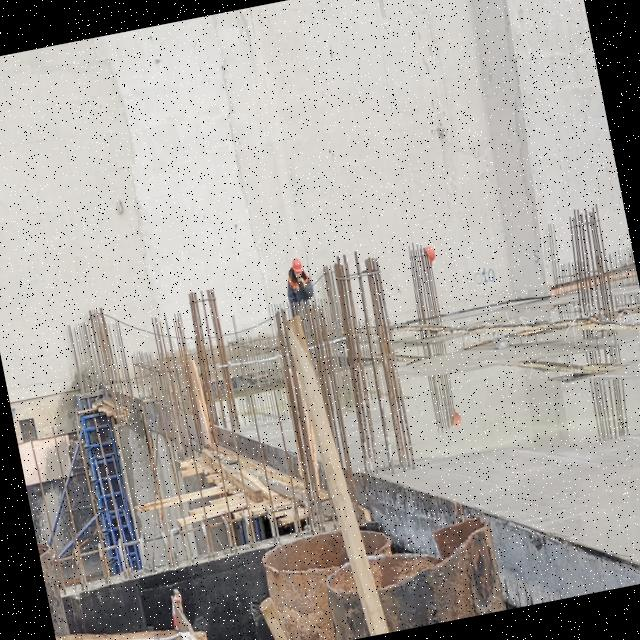Helmet: (292, 258, 306, 280)
